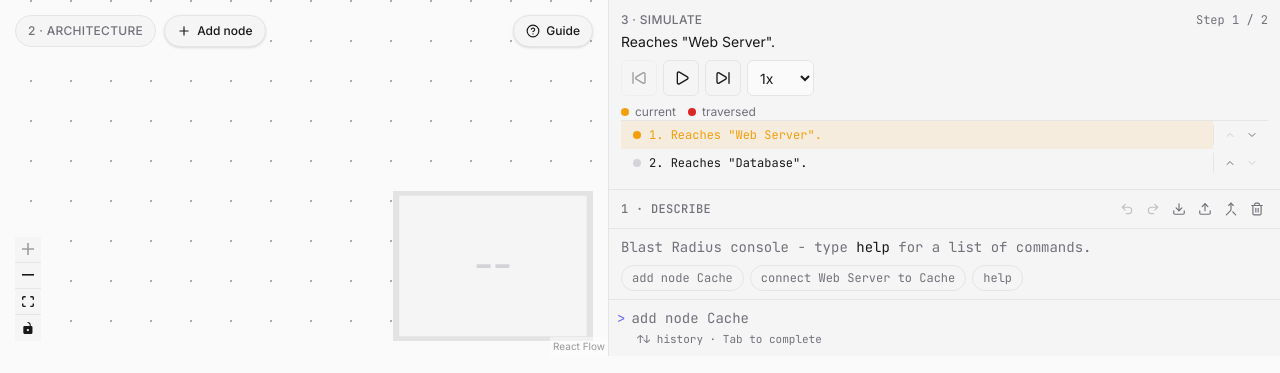
Scenario: ArchitectureWorkspace › clicking the export toolbar button runs the same 'export' command as typing it
Click the button titled "Export architecture". click: (1179, 209)
box: top-left (1168, 198), bottom-right (1190, 220)
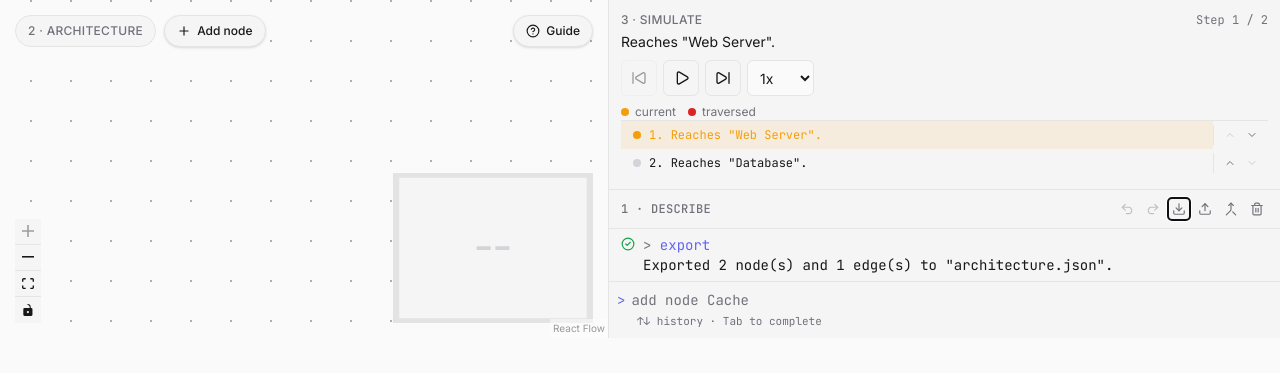
Now the text "export" is shown, box top-left (660, 236), bottom-right (710, 254)
